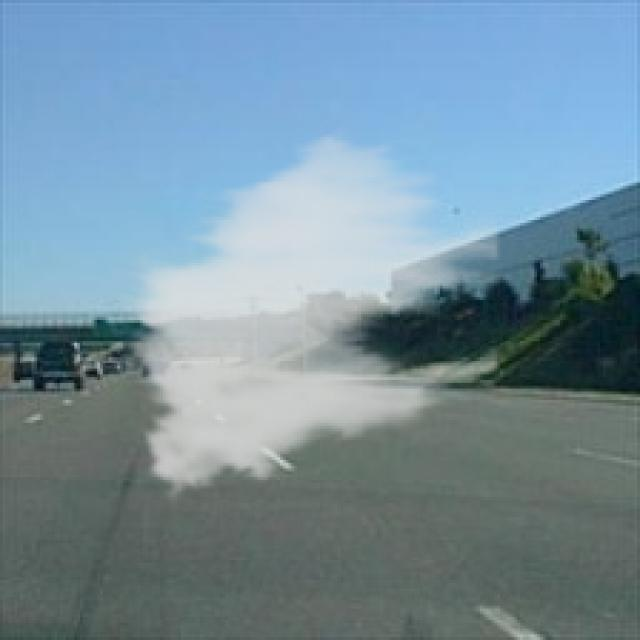smoke: (114, 123, 500, 508)
